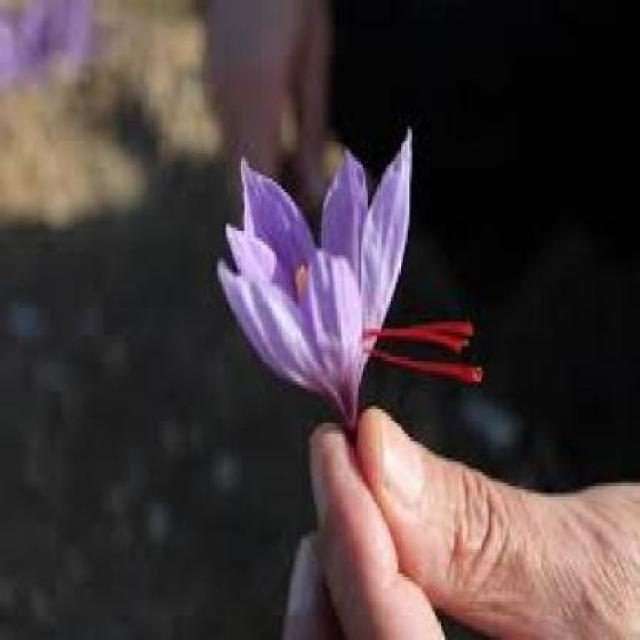Flower: (221, 118, 413, 422)
stigma: (353, 303, 483, 354), (356, 351, 490, 384)
